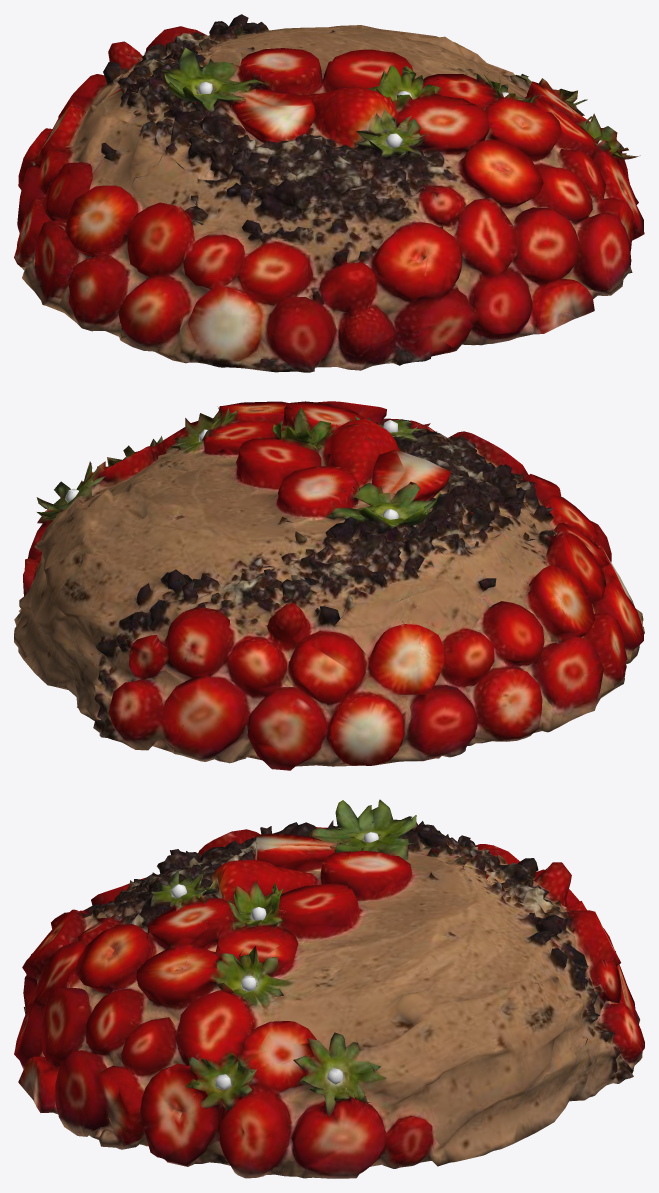
The model's file is ph_strawberry_chocolate_cake.glb.
The picture shows the model from 3 angles, top to bottom: view 1: azimuth 30°, elevation 25°; view 2: azimuth 150°, elevation 25°; view 3: azimuth 270°, elevation 25°; orthographic projection. The views are drawn at different scales.
Visible parts, largest first — view 1: strawberry_chocolate_cake; view 2: strawberry_chocolate_cake; view 3: strawberry_chocolate_cake.
Boxes of the visible parts, box(x1,y1,x2,y2) form: strawberry_chocolate_cake: box(14, 14, 644, 372); strawberry_chocolate_cake: box(14, 401, 644, 770); strawberry_chocolate_cake: box(14, 799, 644, 1178).
Bounding box in the file's own units: 0.2438 × 0.0787 × 0.2401.
Materials: 1 (1 with a texture image).
